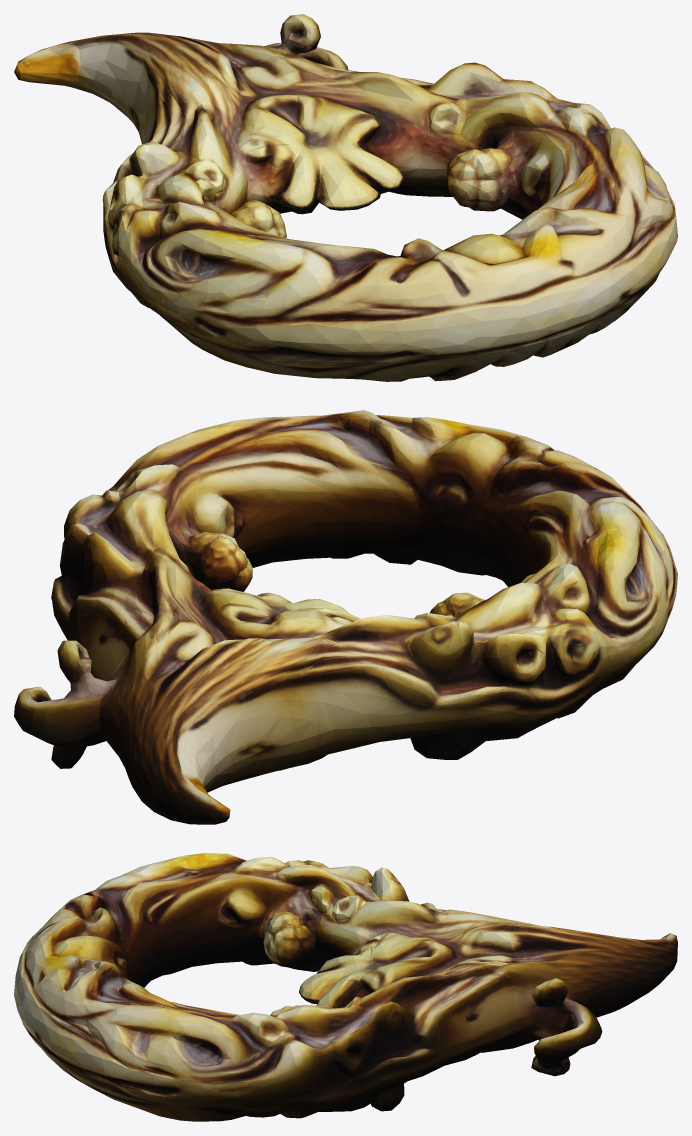
File: hand-carved-horn-door-handle-3d.jpeg.glb
The picture shows the model from 3 angles, top to bottom: view 1: azimuth 30°, elevation 25°; view 2: azimuth 150°, elevation 25°; view 3: azimuth 270°, elevation 25°; orthographic projection. The views are drawn at different scales.
Parts seen in each view (by area): view 1: world; view 2: world; view 3: world.
Part boxes in pixels (bbox=[...]): world: bbox=[14, 14, 677, 381]; world: bbox=[14, 410, 677, 824]; world: bbox=[14, 853, 677, 1121].
Size of the model in its own units: 0.721 by 0.1798 by 1.
Materials: 1 (1 with a texture image).
